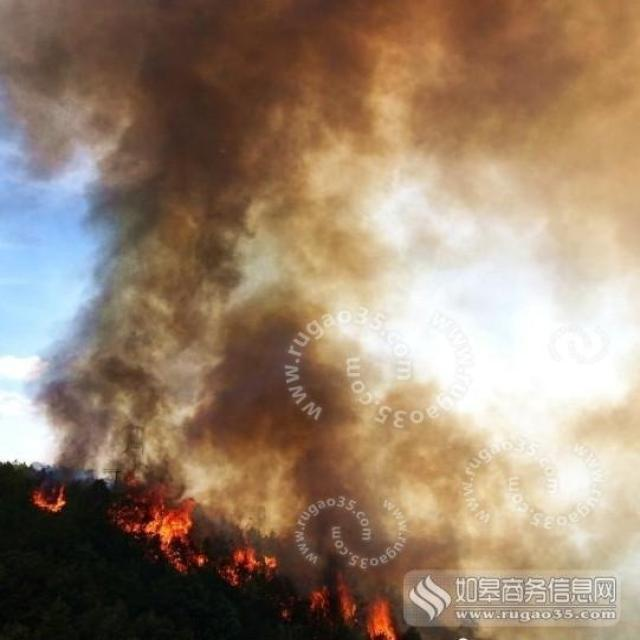Fire: (108, 472, 276, 590), (305, 570, 394, 640), (28, 484, 66, 514)
Smoke: (1, 1, 640, 640)
